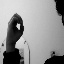o: (5, 12, 26, 47)
